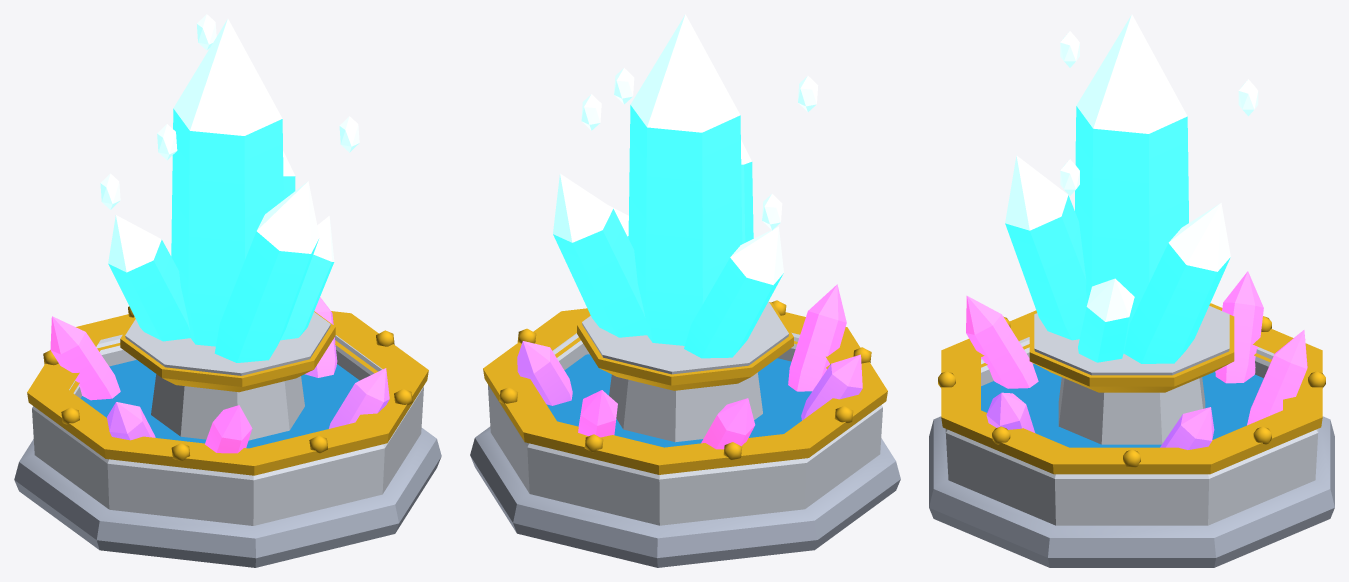
Rendered from wishing-crystal.glb.
3 views of the same model, side by side, from view 1: azimuth 30°, elevation 25°; view 2: azimuth 150°, elevation 25°; view 3: azimuth 270°, elevation 25° (orthographic).
Visible parts, largest first — view 1: wishing-crystal; view 2: wishing-crystal; view 3: wishing-crystal.
Boxes of the visible parts, <box> form: wishing-crystal: <box>14,14,441,567</box>; wishing-crystal: <box>470,14,900,567</box>; wishing-crystal: <box>929,14,1334,567</box>.
Bounding box in the file's own units: 2.46 × 3.14 × 2.46.
